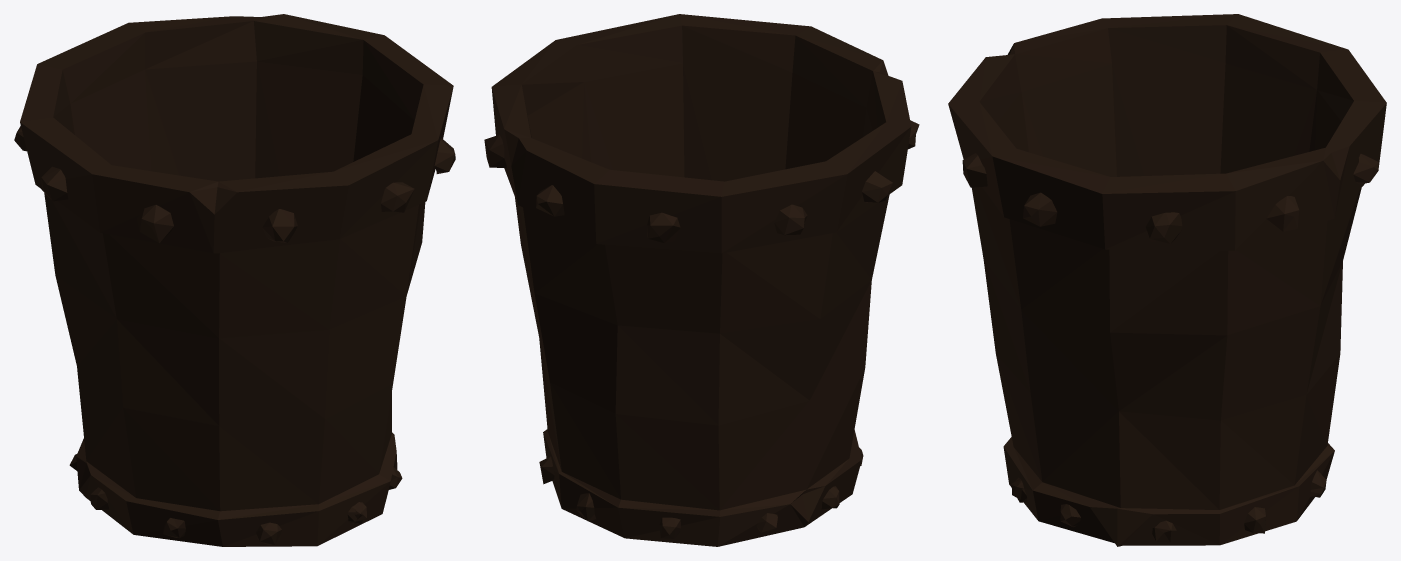
File: SFFA_Bucket_Empty_002.fbx
3 renders of one model, left to right at view 1: azimuth 30°, elevation 25°; view 2: azimuth 150°, elevation 25°; view 3: azimuth 270°, elevation 25°, orthographic.
Visible parts, largest first — view 1: SFFA_Bucket_Empty_002; view 2: SFFA_Bucket_Empty_002; view 3: SFFA_Bucket_Empty_002.
Boxes of the visible parts, box(x1,y1,x2,y2) form: SFFA_Bucket_Empty_002: box(14, 14, 455, 546); SFFA_Bucket_Empty_002: box(484, 14, 919, 546); SFFA_Bucket_Empty_002: box(948, 14, 1386, 546).
Bounding box in the file's own units: 32.09 × 30.99 × 31.9.
